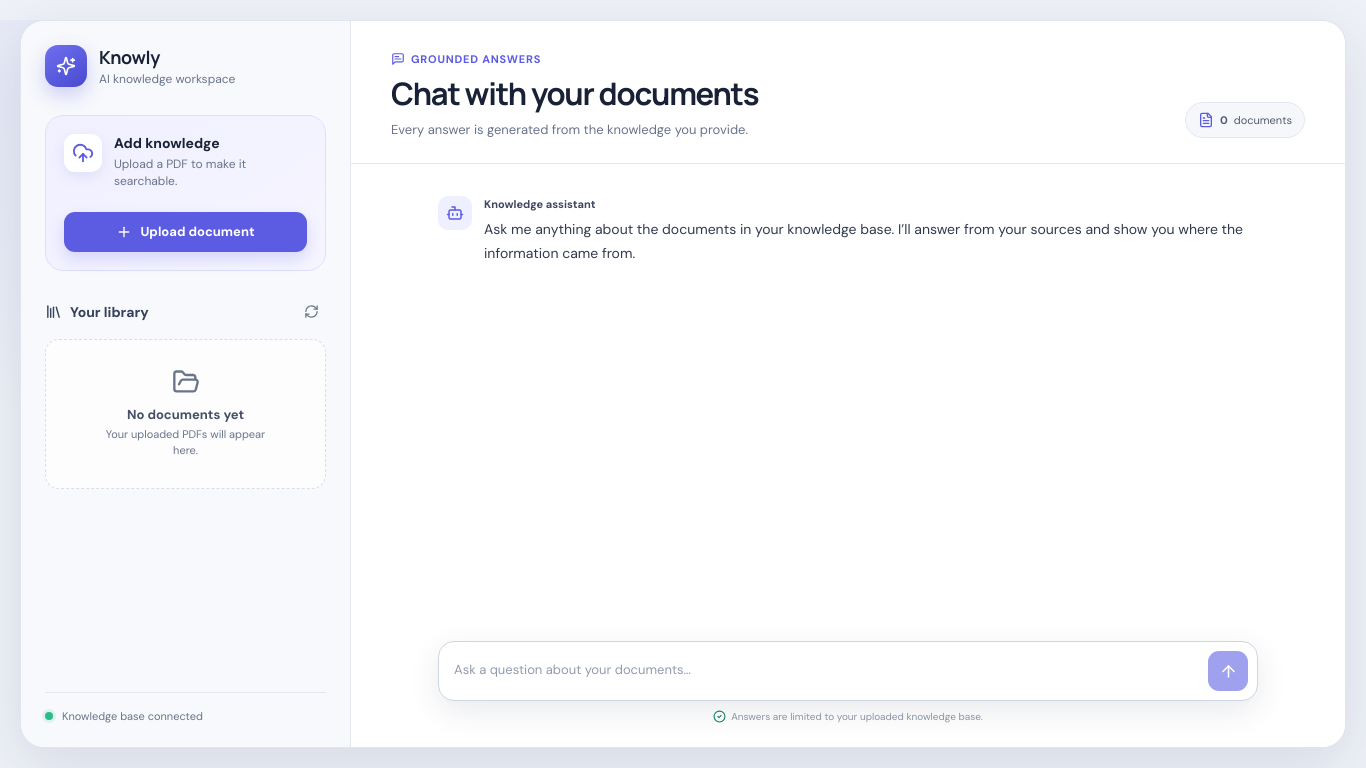
Test: knowledge workspace › shows a provider error without removing the conversation
Type "Try this question" into the text box labelled "Ask a question about your documents".
click(826, 671); type("Try this question")  # box [454, 651, 1198, 691]
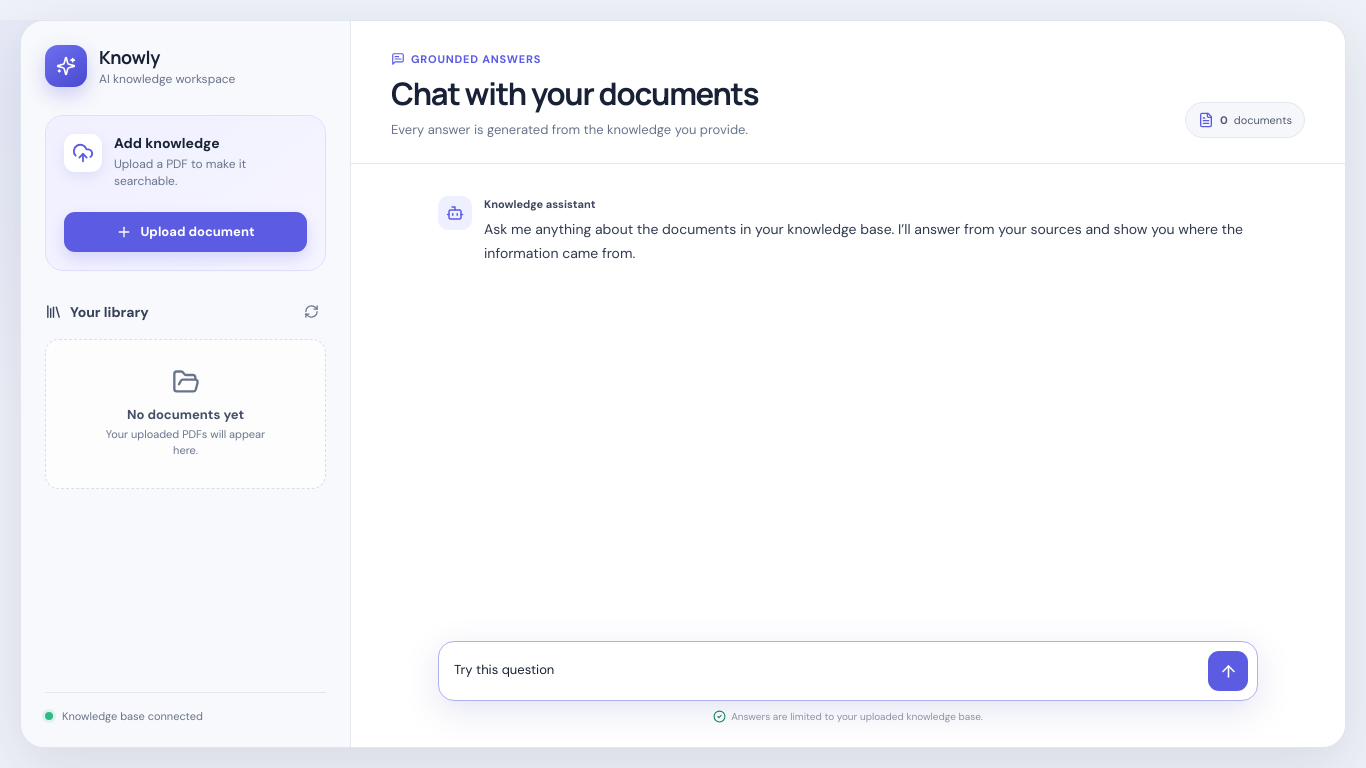
Click the button named "Send question".
click(1228, 671)  # box [1208, 651, 1248, 691]
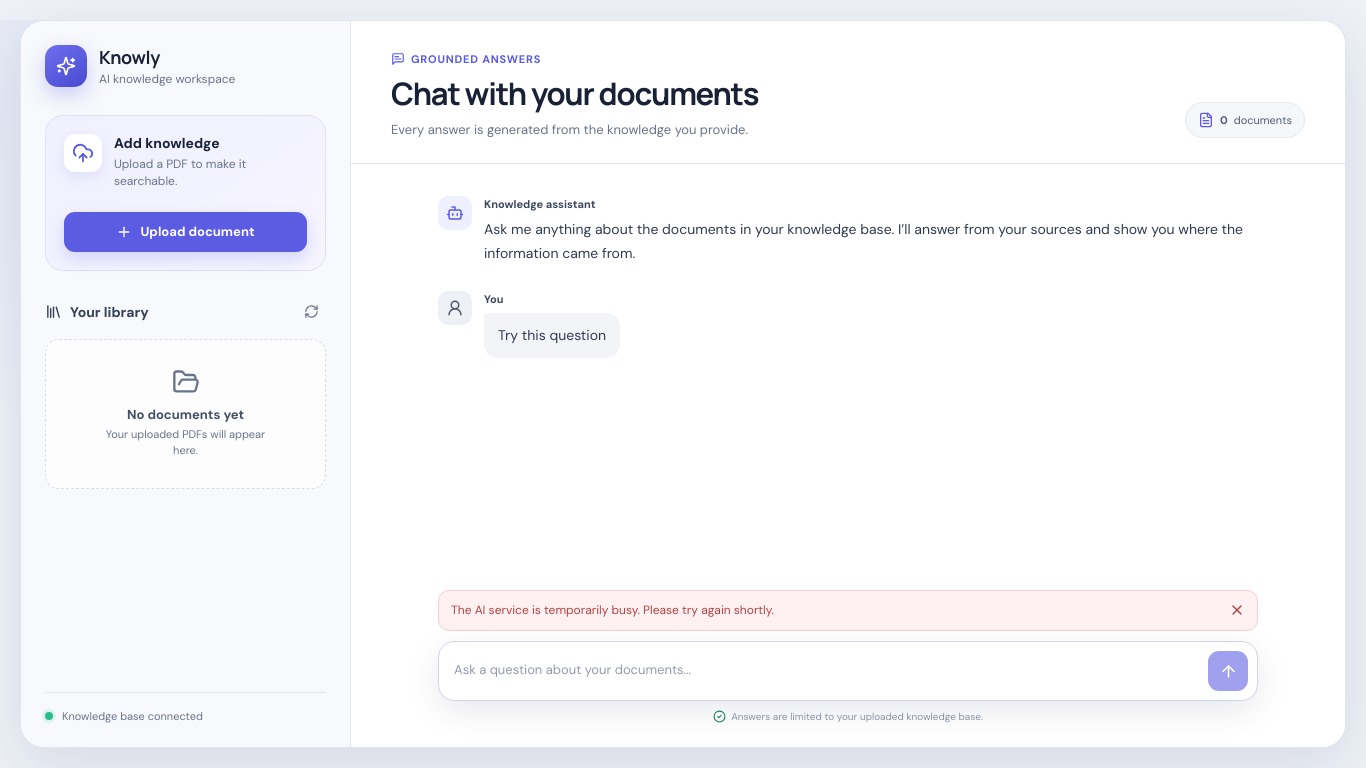
Check: the text "The AI service is temporarily busy. Please try again shortly." is shown, box [451, 602, 774, 619]
Check: the text "Try this question" is shown, box [484, 313, 620, 358]
